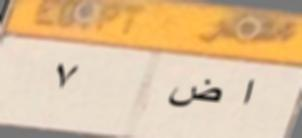7: (48, 60, 87, 94)
alif: (235, 72, 260, 112)
daad: (165, 74, 225, 114)
